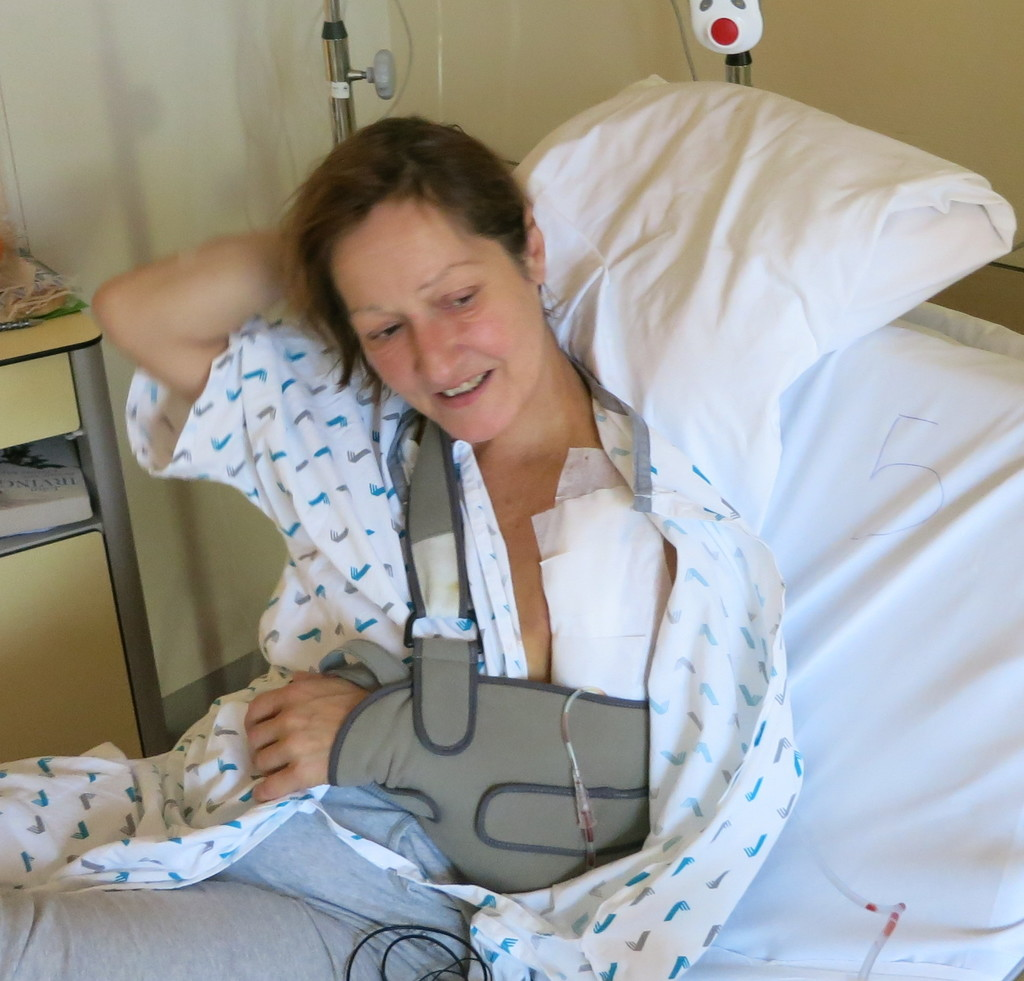Person: (0, 119, 707, 981)
